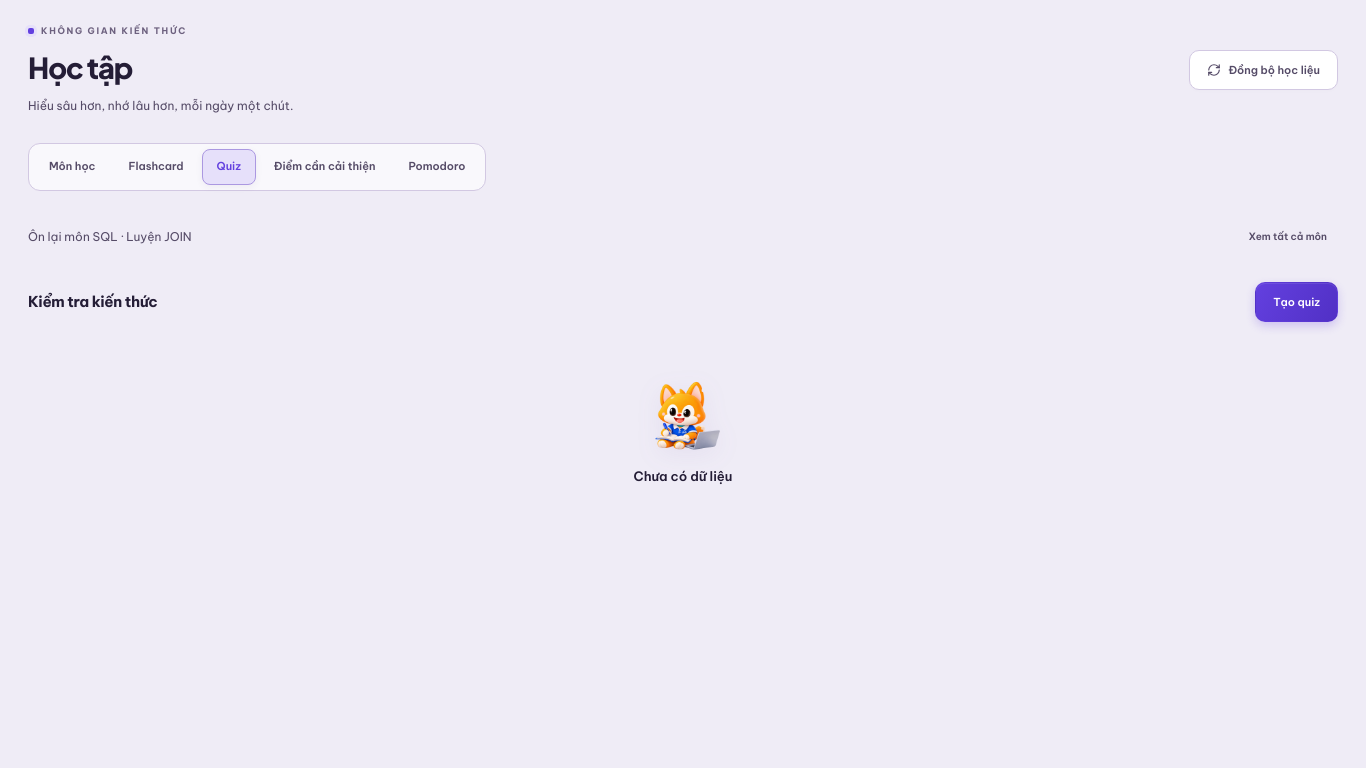
Test: Review after a focused session › prefills the quiz subject and goal without automatically calling AI
Later steps or results of the test are not shown.
Click the button "Tạo quiz" at point(1297, 302), box [1255, 282, 1338, 322]
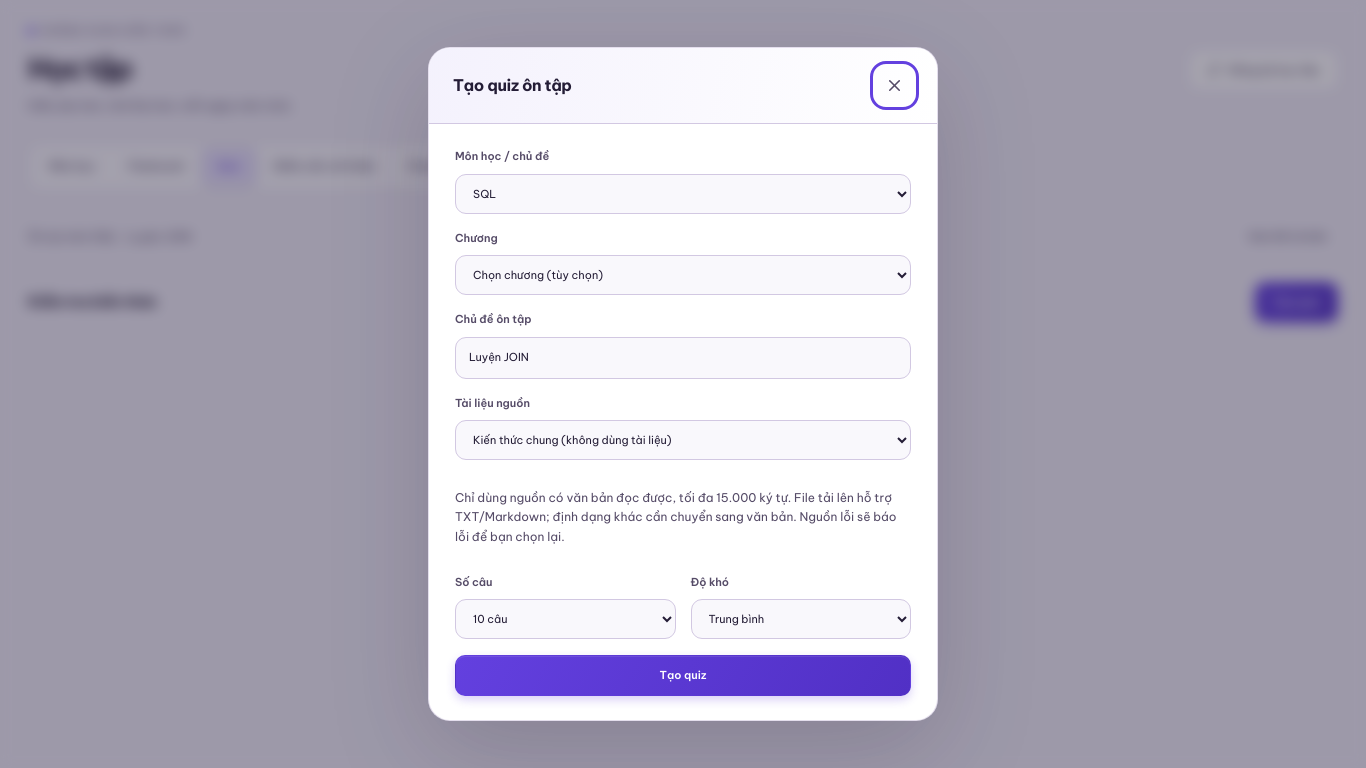
Now the dropdown labelled "Môn học / chủ đề" shows "SQL", box [455, 174, 911, 214]
Now the field labelled "Chủ đề ôn tập" holds "Luyện JOIN", box [455, 337, 911, 379]
